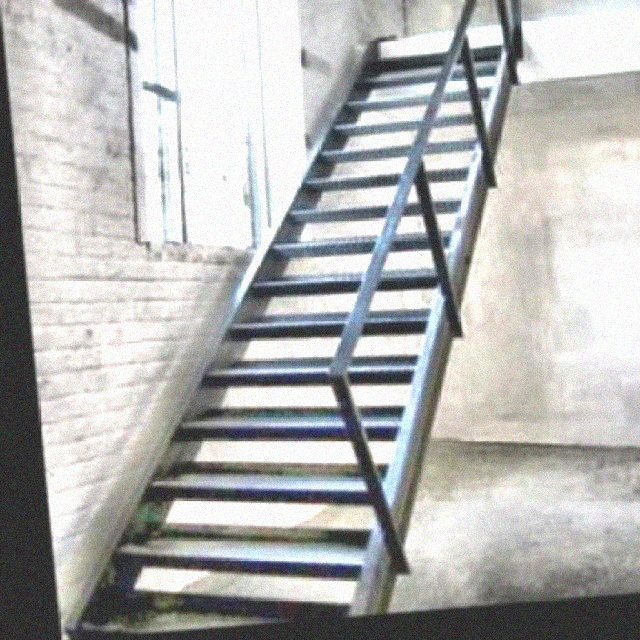stair: (40, 44, 571, 602)
